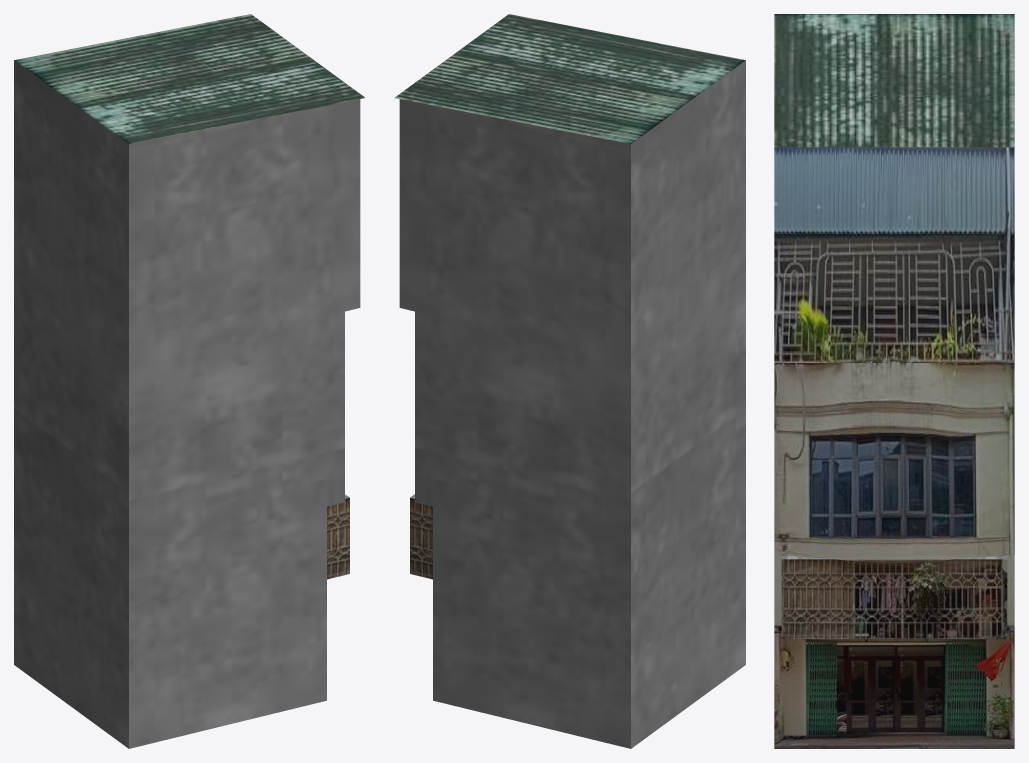
3 renders of one model, left to right at view 1: azimuth 30°, elevation 25°; view 2: azimuth 150°, elevation 25°; view 3: azimuth 270°, elevation 25°, orthographic. The views are drawn at different scales.
Parts seen in each view (by area): view 1: HN1008_NhaDan; view 2: HN1008_NhaDan; view 3: HN1008_NhaDan.
Boxes of the visible parts, bbox=[...] form: HN1008_NhaDan: bbox=[14, 14, 365, 748]; HN1008_NhaDan: bbox=[394, 14, 745, 748]; HN1008_NhaDan: bbox=[774, 14, 1014, 748].
Size of the model in its own units: 5.98 by 14.58 by 5.02.
Materials: 1 (1 with a texture image).
